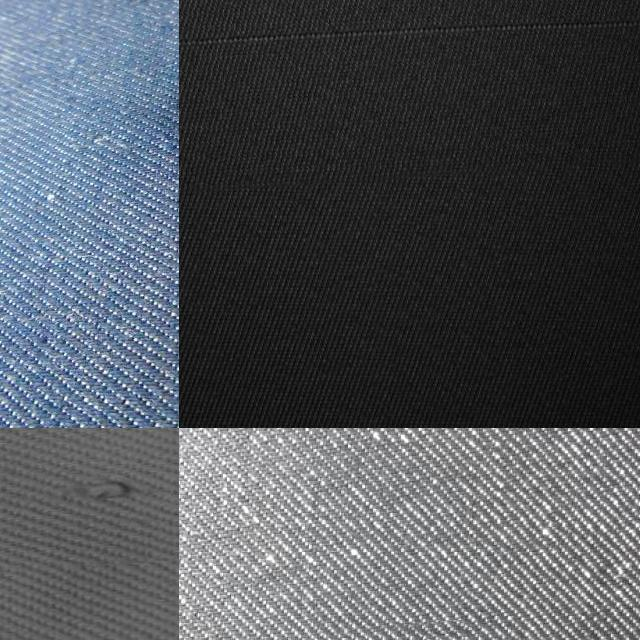Thread_other: (179, 0, 640, 192), (0, 428, 179, 569)
